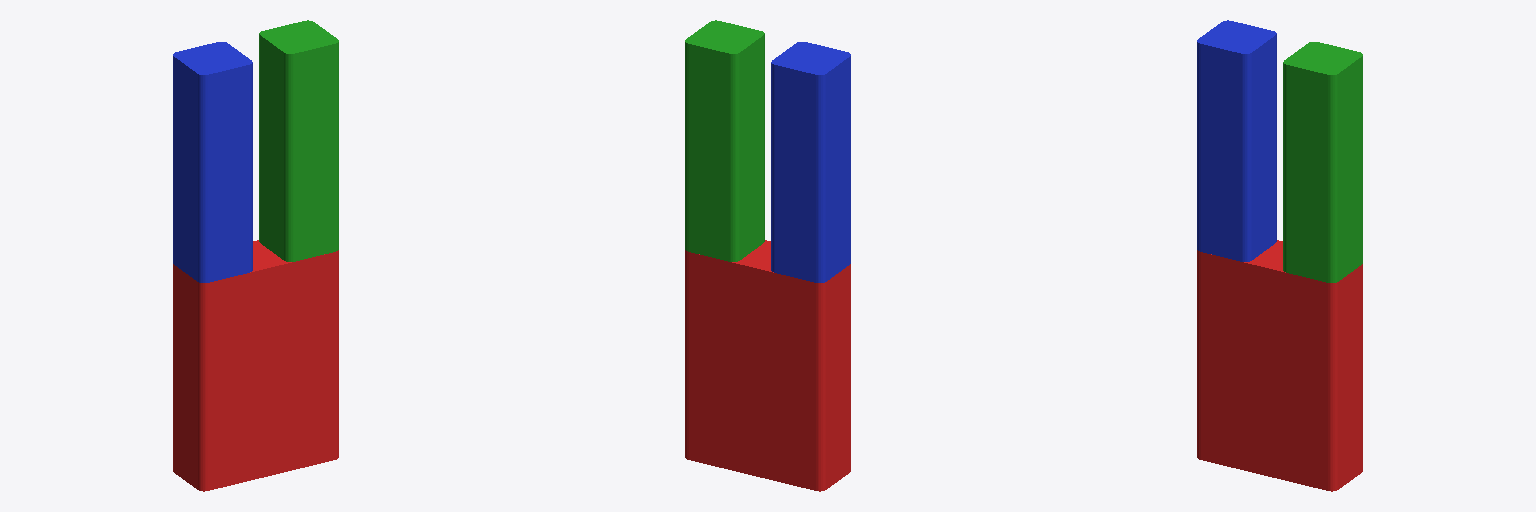
The robot description file, URDF, robot "peg_42_coacd":
<?xml version="1.0" encoding="utf-8"?>
<robot name="peg_42_coacd">
  <link name="base_link">
    <inertial>
      <mass value="0.05"/>
      <inertia ixx="1e-5" ixy="0" ixz="0" iyy="1e-5" iyz="0" izz="1e-5"/>
    </inertial>
  </link>
  <material name="color_0">
    <color rgba="0.9 0.2 0.2 1.0"/>
  </material>
  <link name="hull_0">
    <inertial>
      <mass value="0.001"/>
      <inertia ixx="1e-6" ixy="0" ixz="0" iyy="1e-6" iyz="0" izz="1e-6"/>
    </inertial>
    <visual>
      <origin xyz="0 0 0" rpy="0 0 0"/>
      <geometry>
        <mesh filename="decomp_0.obj" scale="1 1 1"/>
      </geometry>
      <material name="color_0"/>
    </visual>
    <collision>
      <origin xyz="0 0 0" rpy="0 0 0"/>
      <geometry>
        <mesh filename="decomp_0.obj" scale="1 1 1"/>
      </geometry>
    </collision>
  </link>
  <joint name="hull_joint_0" type="fixed">
    <parent link="base_link"/>
    <child link="hull_0"/>
    <origin xyz="0 0 0" rpy="0 0 0"/>
  </joint>
  <material name="color_1">
    <color rgba="0.2 0.7 0.2 1.0"/>
  </material>
  <link name="hull_1">
    <inertial>
      <mass value="0.001"/>
      <inertia ixx="1e-6" ixy="0" ixz="0" iyy="1e-6" iyz="0" izz="1e-6"/>
    </inertial>
    <visual>
      <origin xyz="0 0 0" rpy="0 0 0"/>
      <geometry>
        <mesh filename="decomp_1.obj" scale="1 1 1"/>
      </geometry>
      <material name="color_1"/>
    </visual>
    <collision>
      <origin xyz="0 0 0" rpy="0 0 0"/>
      <geometry>
        <mesh filename="decomp_1.obj" scale="1 1 1"/>
      </geometry>
    </collision>
  </link>
  <joint name="hull_joint_1" type="fixed">
    <parent link="base_link"/>
    <child link="hull_1"/>
    <origin xyz="0 0 0" rpy="0 0 0"/>
  </joint>
  <material name="color_2">
    <color rgba="0.2 0.3 0.9 1.0"/>
  </material>
  <link name="hull_2">
    <inertial>
      <mass value="0.001"/>
      <inertia ixx="1e-6" ixy="0" ixz="0" iyy="1e-6" iyz="0" izz="1e-6"/>
    </inertial>
    <visual>
      <origin xyz="0 0 0" rpy="0 0 0"/>
      <geometry>
        <mesh filename="decomp_2.obj" scale="1 1 1"/>
      </geometry>
      <material name="color_2"/>
    </visual>
    <collision>
      <origin xyz="0 0 0" rpy="0 0 0"/>
      <geometry>
        <mesh filename="decomp_2.obj" scale="1 1 1"/>
      </geometry>
    </collision>
  </link>
  <joint name="hull_joint_2" type="fixed">
    <parent link="base_link"/>
    <child link="hull_2"/>
    <origin xyz="0 0 0" rpy="0 0 0"/>
  </joint>
</robot>

--- Facts derived from the render (not from the file) ---
Views: 3 orthographic renders of the robot side by side, from view 1: azimuth 30°, elevation 25°; view 2: azimuth 150°, elevation 25°; view 3: azimuth 330°, elevation 25°.
Robot: peg_42_coacd — 4 links, 3 joints (3 fixed); root link base_link; default pose: all joints at 0.
Links seen in each view (by area): view 1: hull_0, hull_2, hull_1; view 2: hull_0, hull_2, hull_1; view 3: hull_0, hull_1, hull_2.
Boxes of the visible links, left/top/right/bottom form: hull_0: left=173, top=240, right=338, bottom=491; hull_2: left=173, top=42, right=252, bottom=282; hull_1: left=259, top=20, right=338, bottom=261; hull_0: left=685, top=240, right=850, bottom=491; hull_2: left=771, top=42, right=850, bottom=282; hull_1: left=685, top=20, right=764, bottom=261; hull_0: left=1197, top=240, right=1362, bottom=491; hull_1: left=1283, top=42, right=1362, bottom=282; hull_2: left=1197, top=20, right=1276, bottom=261.
Size in the robot's own frame: 0.053 by 0.0204 by 0.15 metres.
Meshes: 3 distinct files referenced, 3 mesh visuals loaded (3 OBJ).
